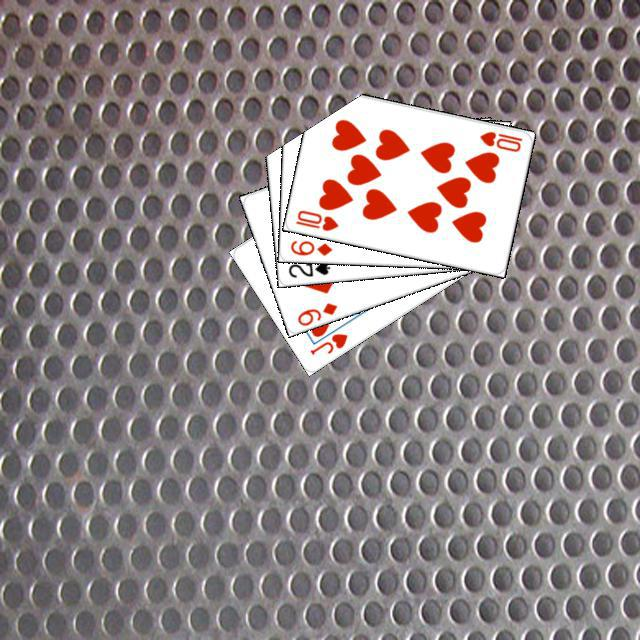10h: (290, 205, 340, 233), (475, 126, 524, 154)
2s: (284, 256, 331, 279)
6d: (286, 235, 334, 257)
9d: (292, 298, 339, 327)
Jh: (305, 328, 349, 357)
